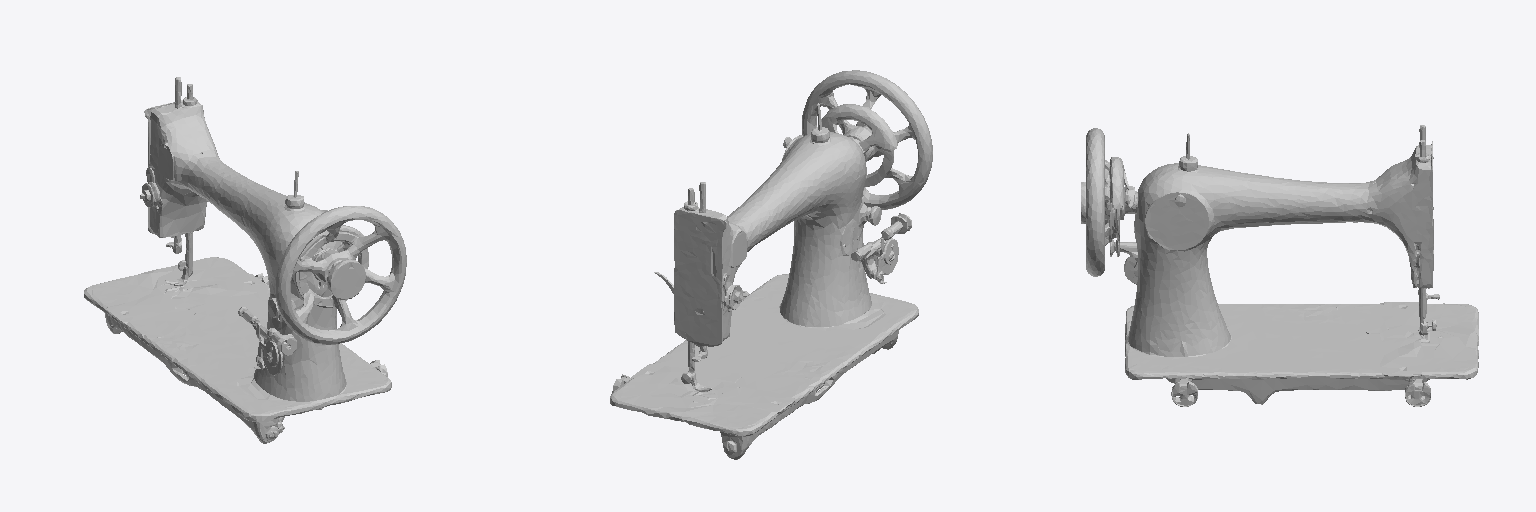
The model's file is singerSewingMachine.obj.
3 views of the same model, side by side, from view 1: azimuth 30°, elevation 25°; view 2: azimuth 150°, elevation 25°; view 3: azimuth 270°, elevation 25° (orthographic).
Visible parts, largest first — view 1: SingerSewing; view 2: SingerSewing; view 3: SingerSewing.
Boxes of the visible parts, x1,y1,x2,y2 form: SingerSewing: [84, 77, 406, 443]; SingerSewing: [610, 70, 932, 459]; SingerSewing: [1081, 125, 1478, 406].
Size of the model in its own units: 0.9853 by 1.48 by 2.1.